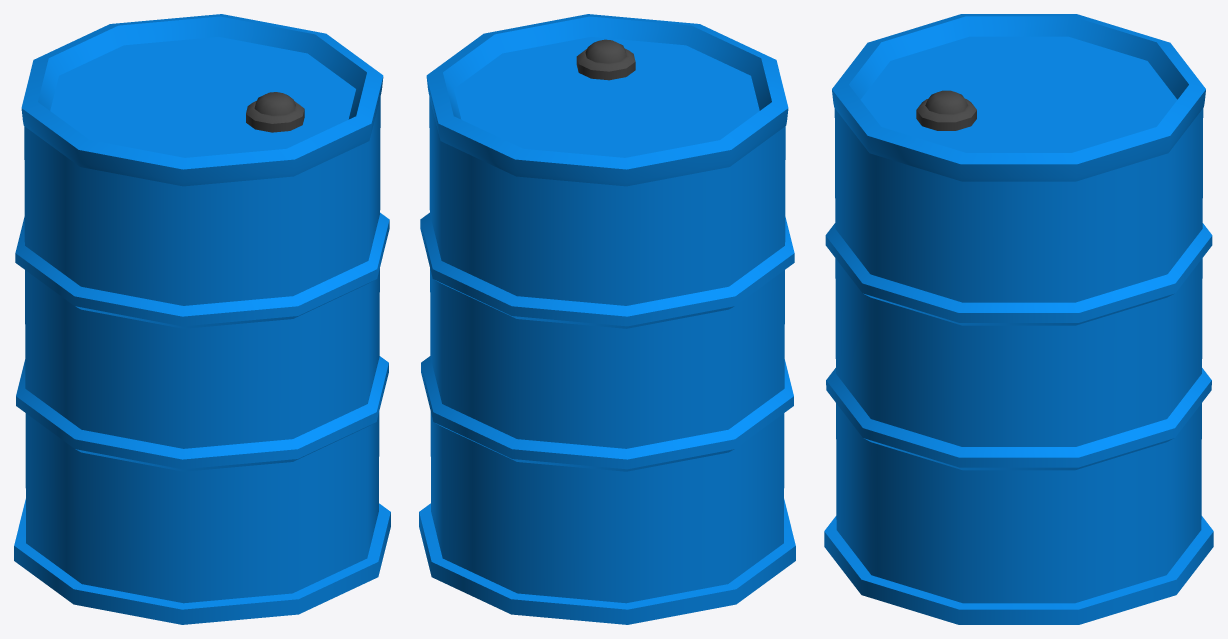
The model's file is MBarrel_2.fbx.
3 views of the same model, side by side, from view 1: azimuth 30°, elevation 25°; view 2: azimuth 150°, elevation 25°; view 3: azimuth 270°, elevation 25° (orthographic).
Parts seen in each view (by area): view 1: MBarrel_2; view 2: MBarrel_2; view 3: MBarrel_2.
Part boxes in pixels (box(x1,y1,x2,y2)): MBarrel_2: box(14, 14, 390, 624); MBarrel_2: box(419, 14, 795, 624); MBarrel_2: box(824, 14, 1213, 624).
Size of the model in its own units: 0.594 by 0.8333 by 0.6246.
